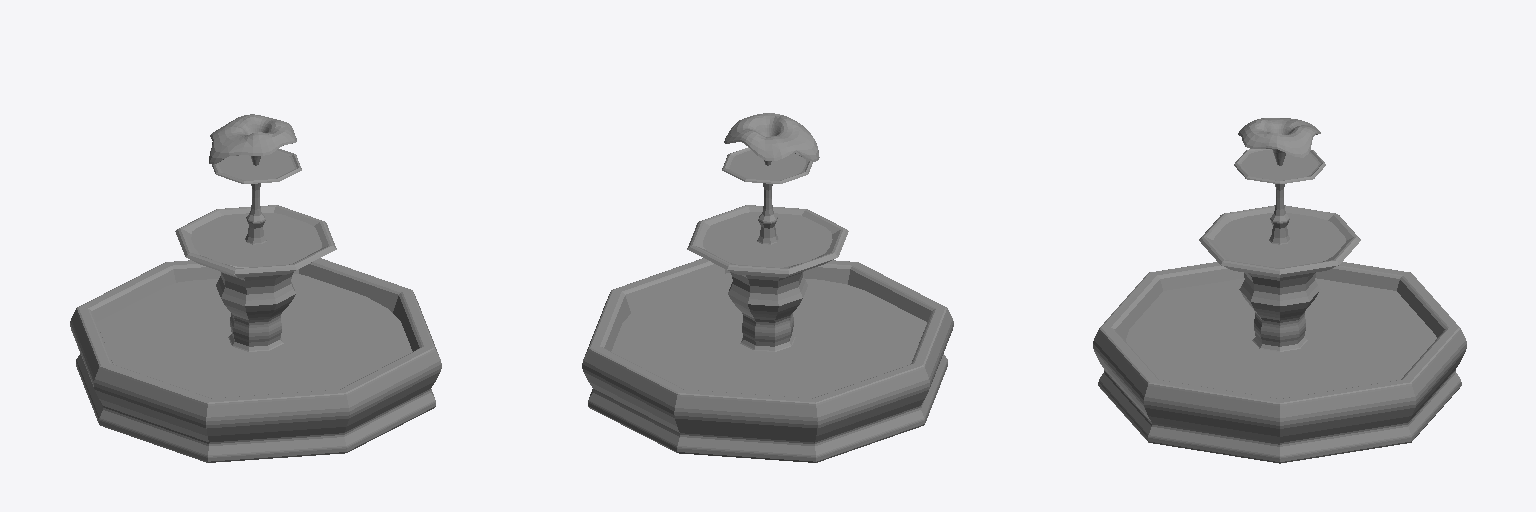
The model's file is fountain_center.obj.
3 renders of one model, left to right at view 1: azimuth 30°, elevation 25°; view 2: azimuth 150°, elevation 25°; view 3: azimuth 270°, elevation 25°, orthographic.
Visible parts, largest first — view 1: Cube, Cylinder; view 2: Cube, Cylinder; view 3: Cube, Cylinder.
Part boxes in pixels (x1,y1,x2,y2): Cube: (70,149,441,462); Cylinder: (97,114,412,397); Cube: (582,147,953,462); Cylinder: (611,113,926,397); Cube: (1093,149,1466,463); Cylinder: (1126,118,1436,398).
Size of the model in its own units: 4.32 by 3.36 by 4.32.